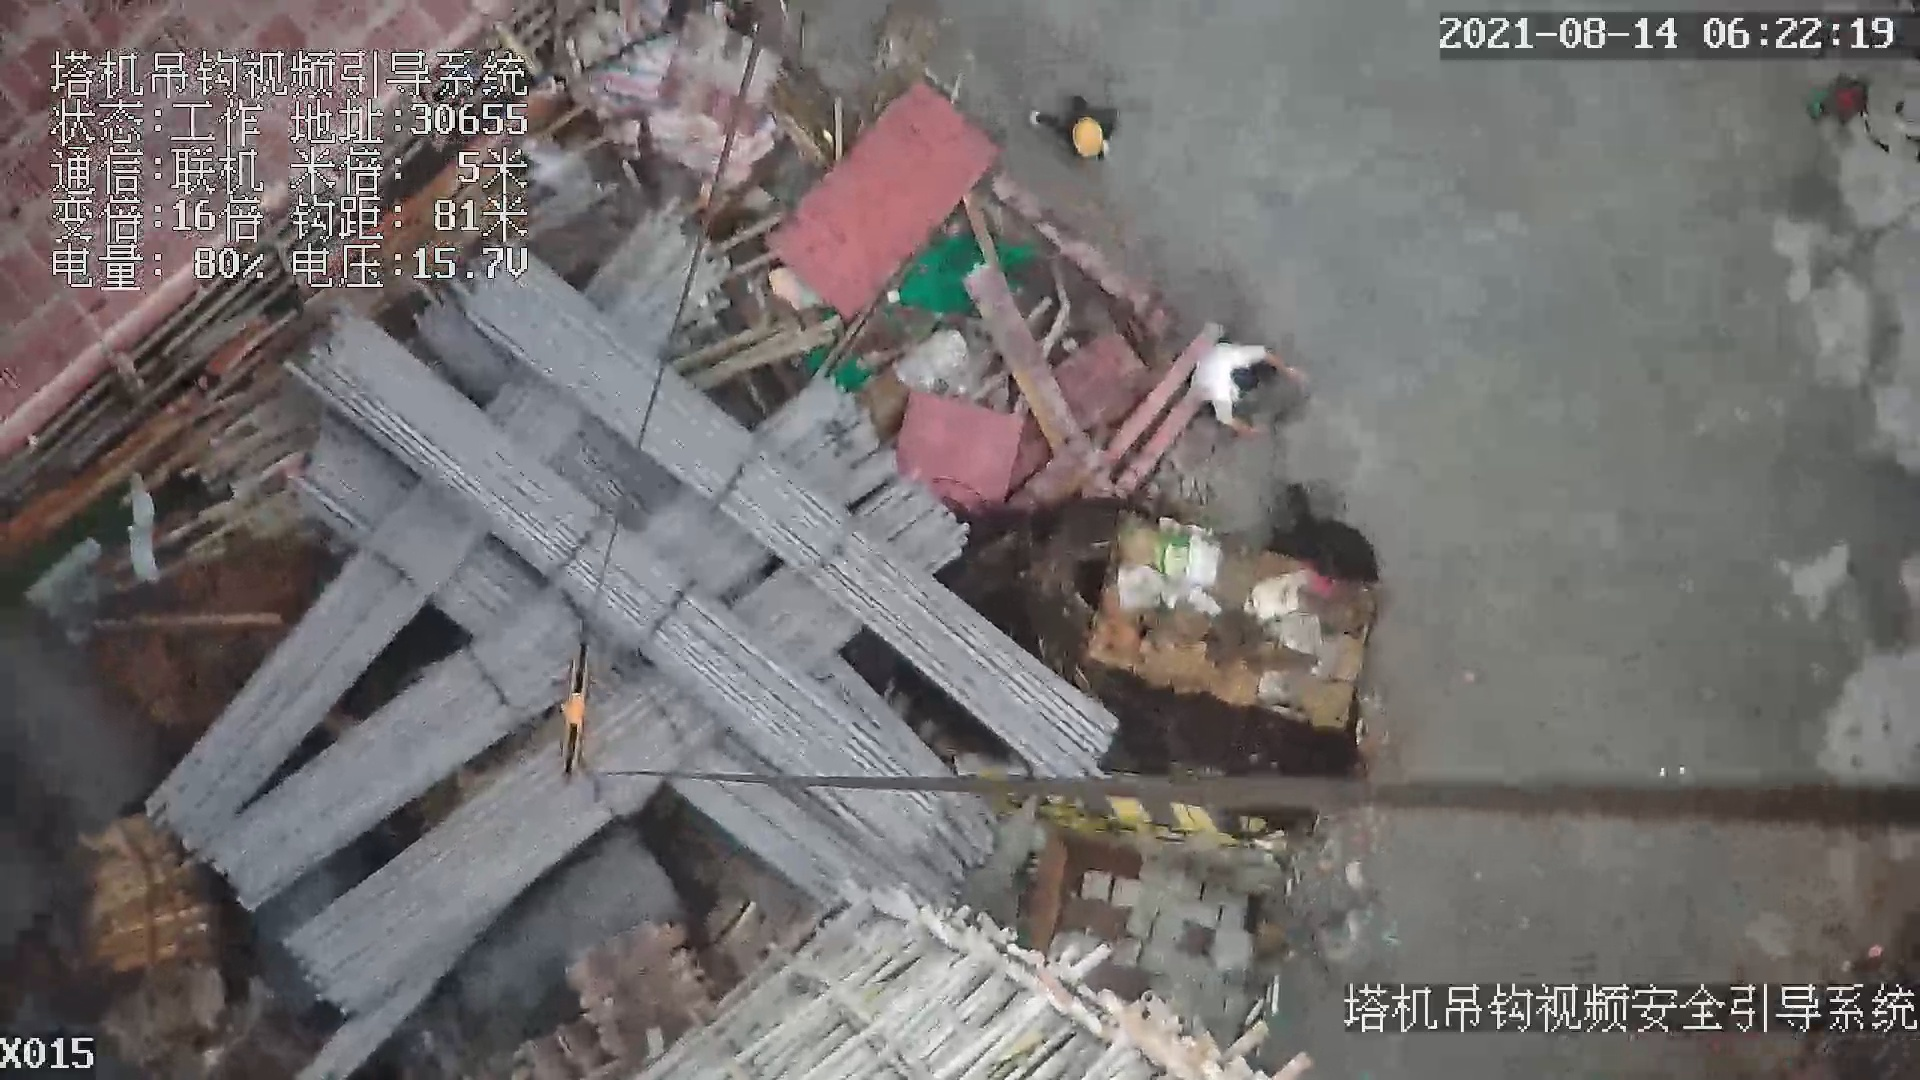helmet: (1059, 112, 1110, 168)
hook: (546, 645, 590, 785)
person: (1192, 338, 1324, 438), (1025, 88, 1132, 176)
